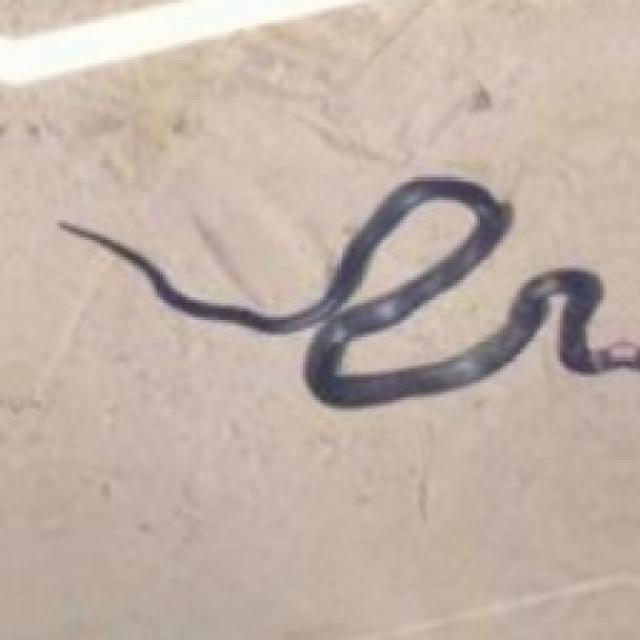king cobra: (60, 177, 637, 406), (337, 197, 477, 311)
